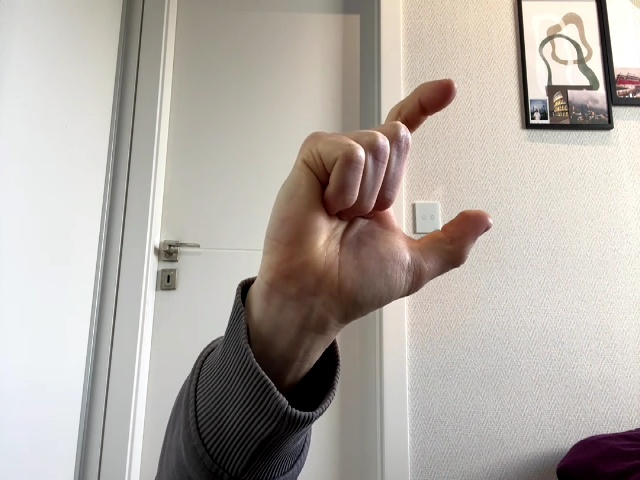C: (261, 80, 492, 330)
